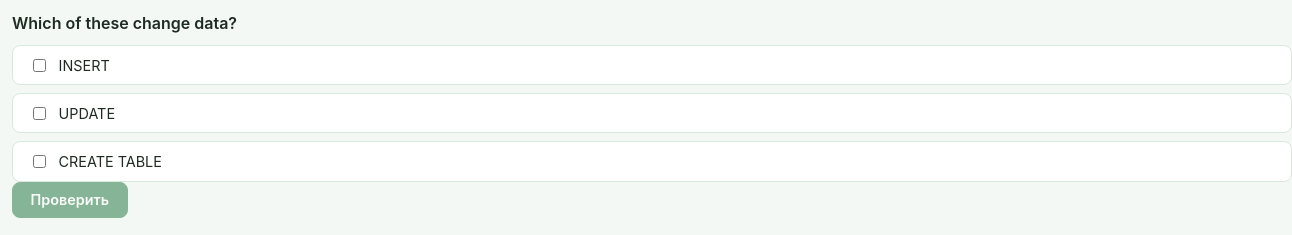
Test: QuizView with a multi-select quiz › submits the checked set, marks every chosen option and re-fetches progress on the exact correct set (happy path)
Click the checkbox labelled "INSERT" at (40,65), box 33,59 -> 46,72
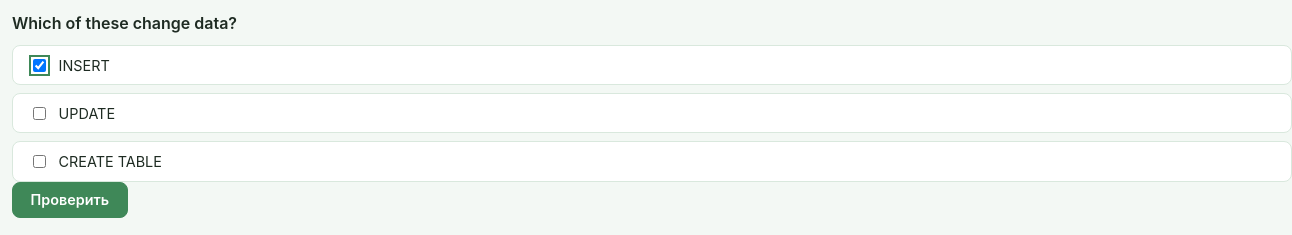
Click the checkbox labelled "UPDATE" at (40,113), box 33,107 -> 46,120
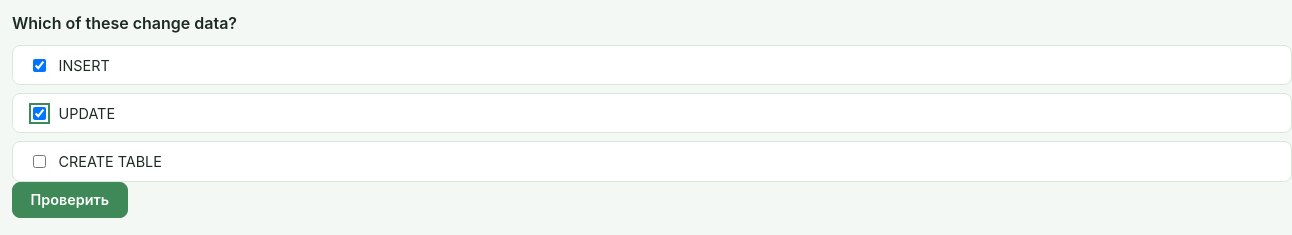
Click the button "Проверить" at (70,200), box 12,182 -> 128,218
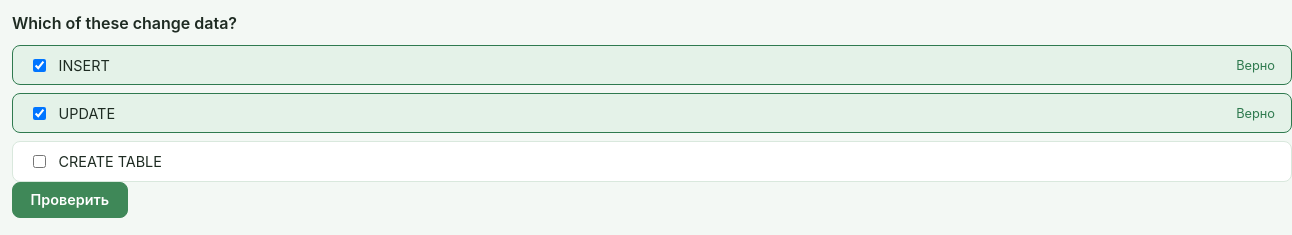
Check: the text "Верно" is shown 2 times, box 1236,58 -> 1275,73; 1236,106 -> 1275,121
